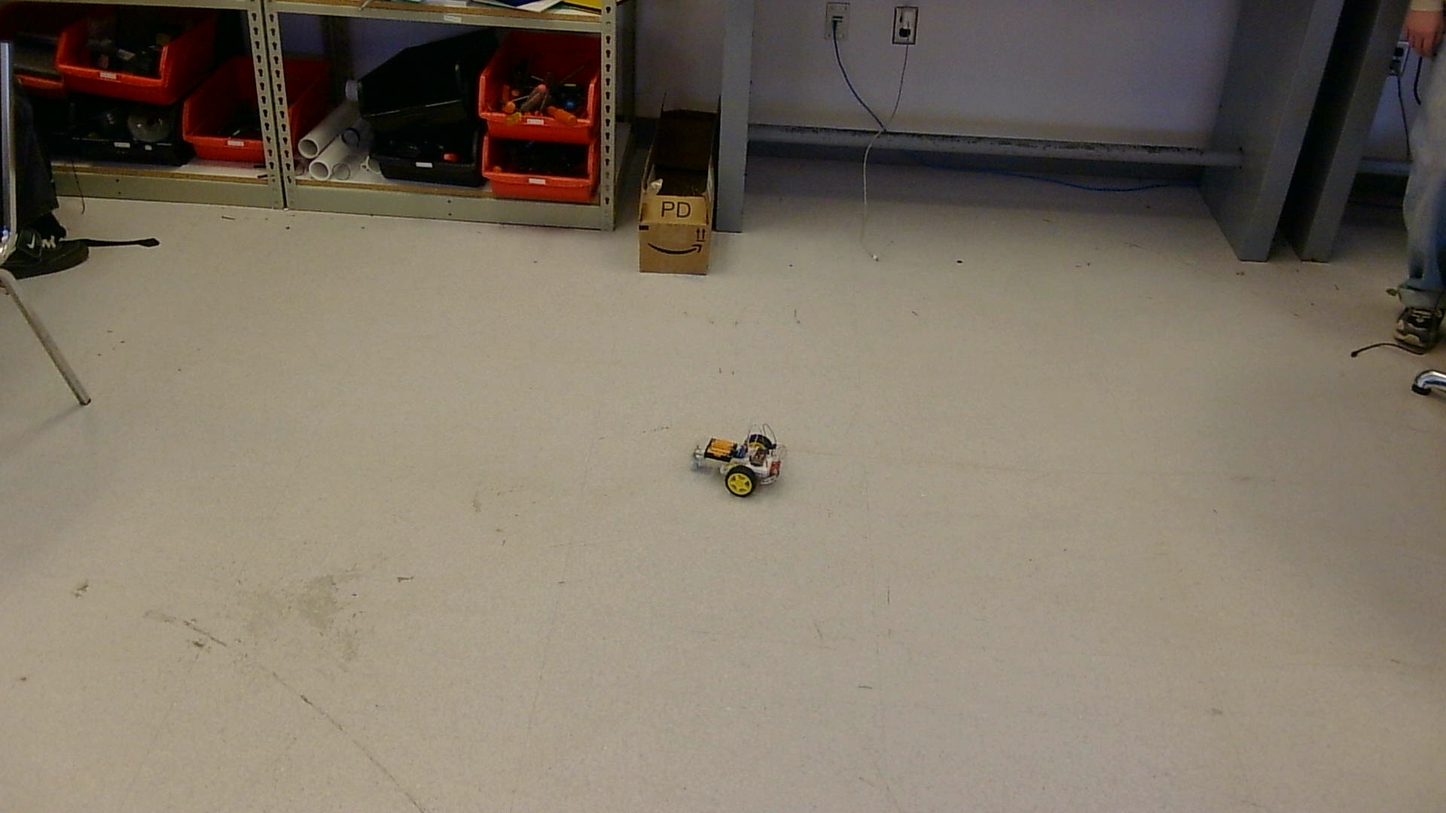robot: (691, 424, 786, 498)
